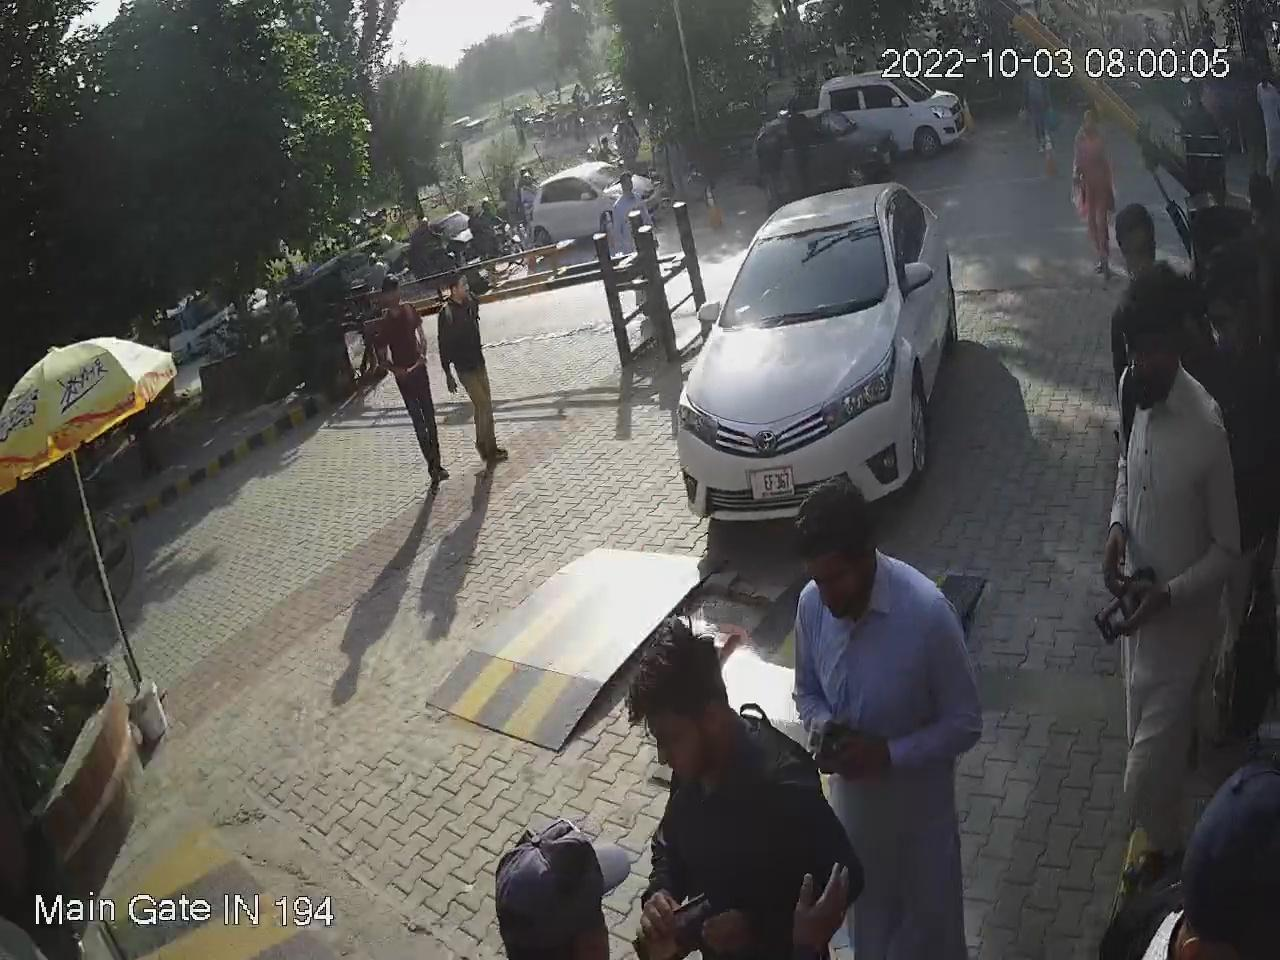windshield: (726, 213, 885, 325)
